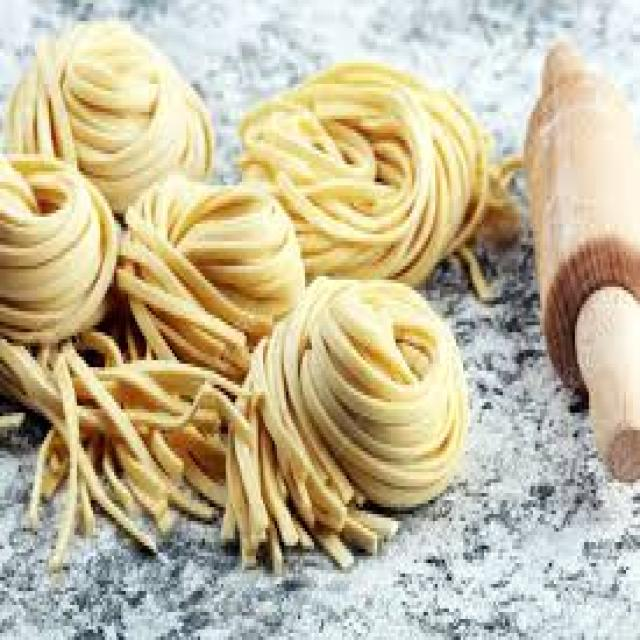Pasta: (9, 30, 468, 538)
